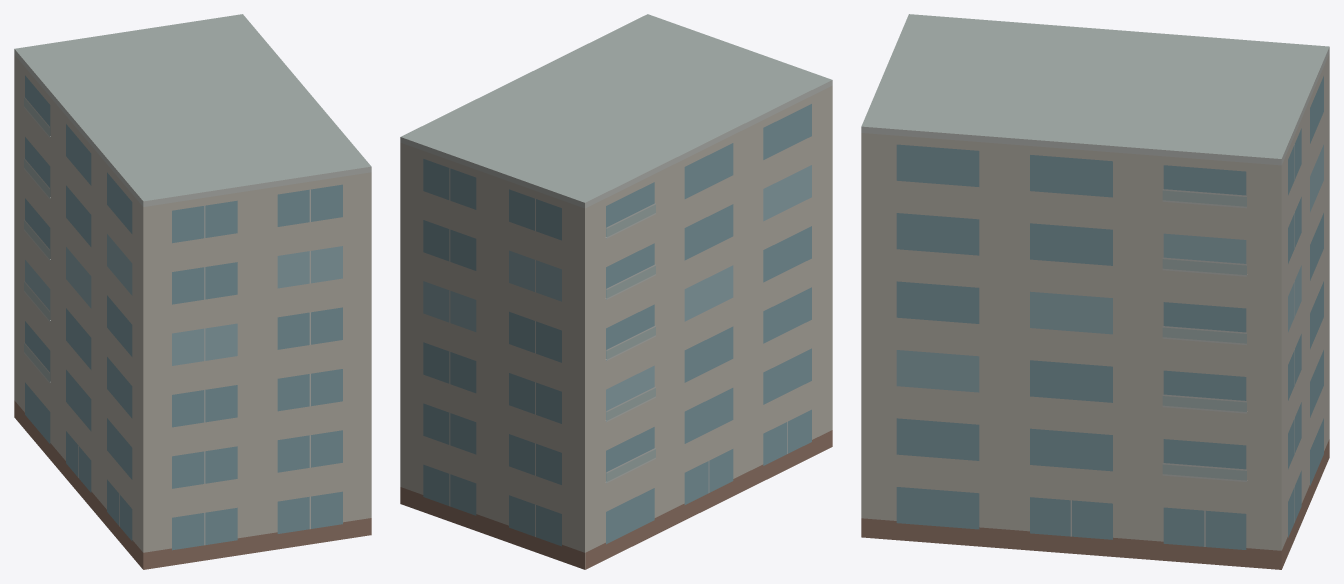
File: survey-upis-32892662.glb
3 views of the same model, side by side, from view 1: azimuth 30°, elevation 25°; view 2: azimuth 150°, elevation 25°; view 3: azimuth 270°, elevation 25° (orthographic). The views are drawn at different scales.
Parts seen in each view (by area): view 1: survey-upis-32892662.tmp; view 2: survey-upis-32892662.tmp; view 3: survey-upis-32892662.tmp.
Part boxes in pixels (x1,y1,x2,y2): survey-upis-32892662.tmp: (14, 14, 371, 569); survey-upis-32892662.tmp: (400, 14, 832, 569); survey-upis-32892662.tmp: (861, 14, 1329, 569).
Size of the model in its own units: 11.98 by 15.8 by 16.33.
